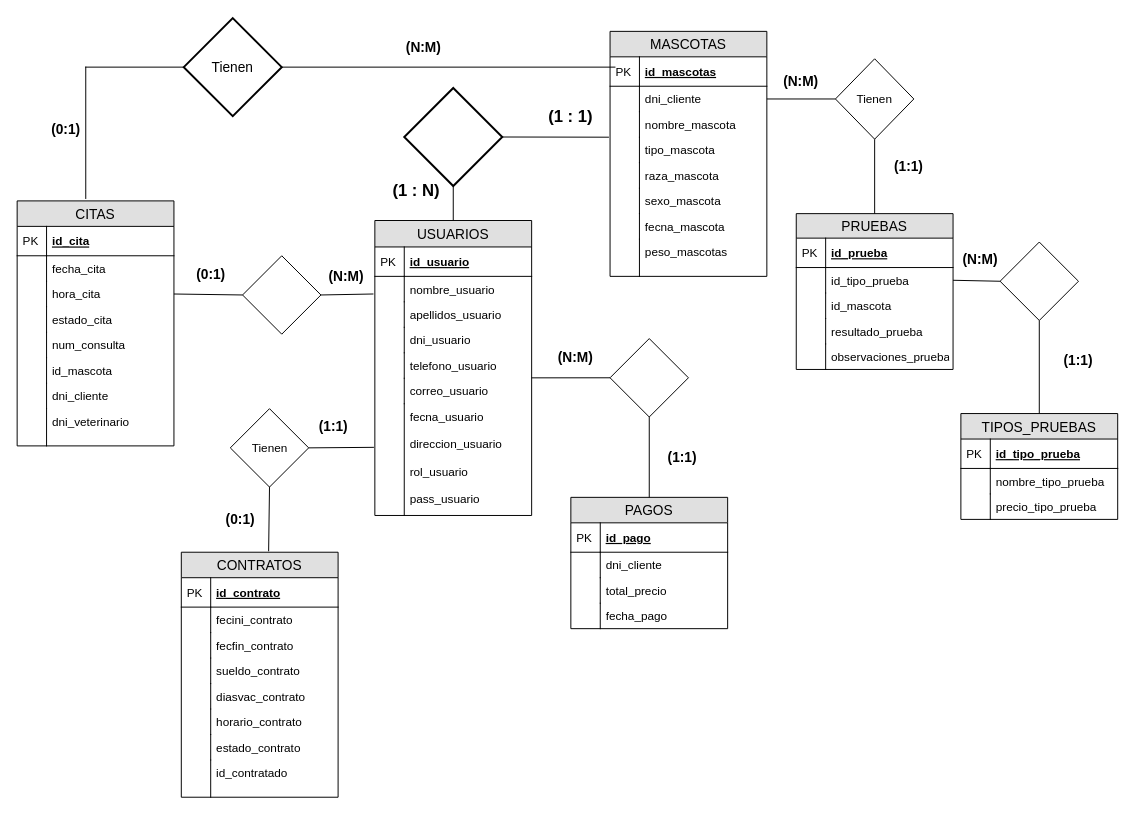
Image size: 1135x816. Some labels were removed from this diagram. Here are the shapes that lost their labels. From the top down, the centre of each, then its label:
[453,136]: Poseen
[281,294]: Piden
[1038,280]: Hay
[648,377]: Realizan
